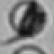correct: (0, 0, 50, 45)
